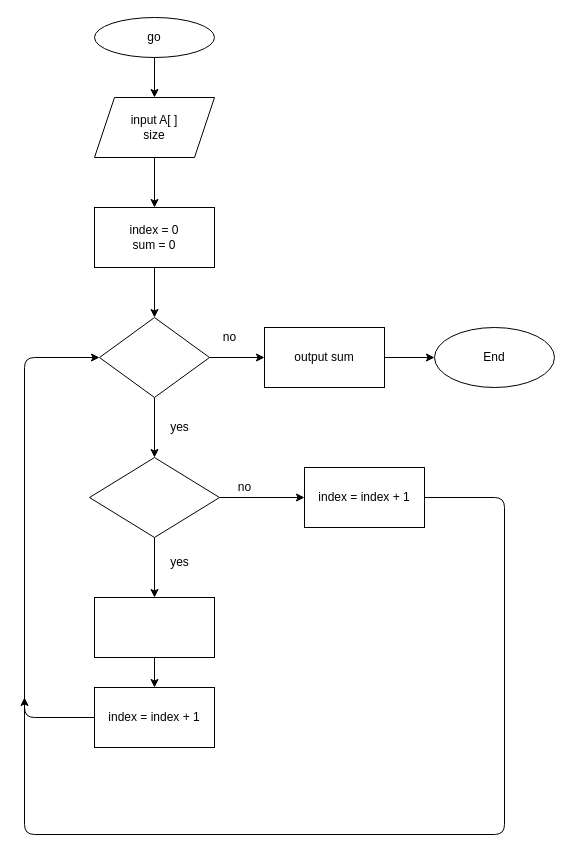
Image size: 572x860. Some labels were removed from this diagram. The centre of each missing label's shape, as x and y in pixels:
index < size?: pixel 154 357
index нечетный?: pixel 154 497
sum = sum + A [index]: pixel 154 627
